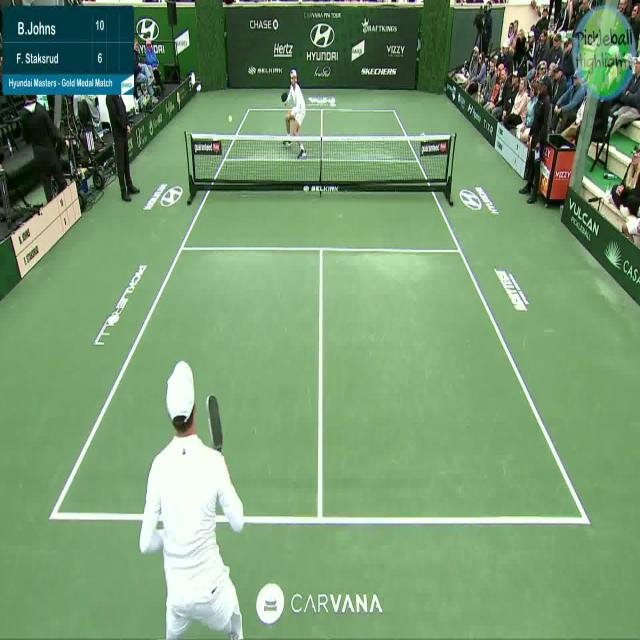ball: (228, 114, 232, 125)
